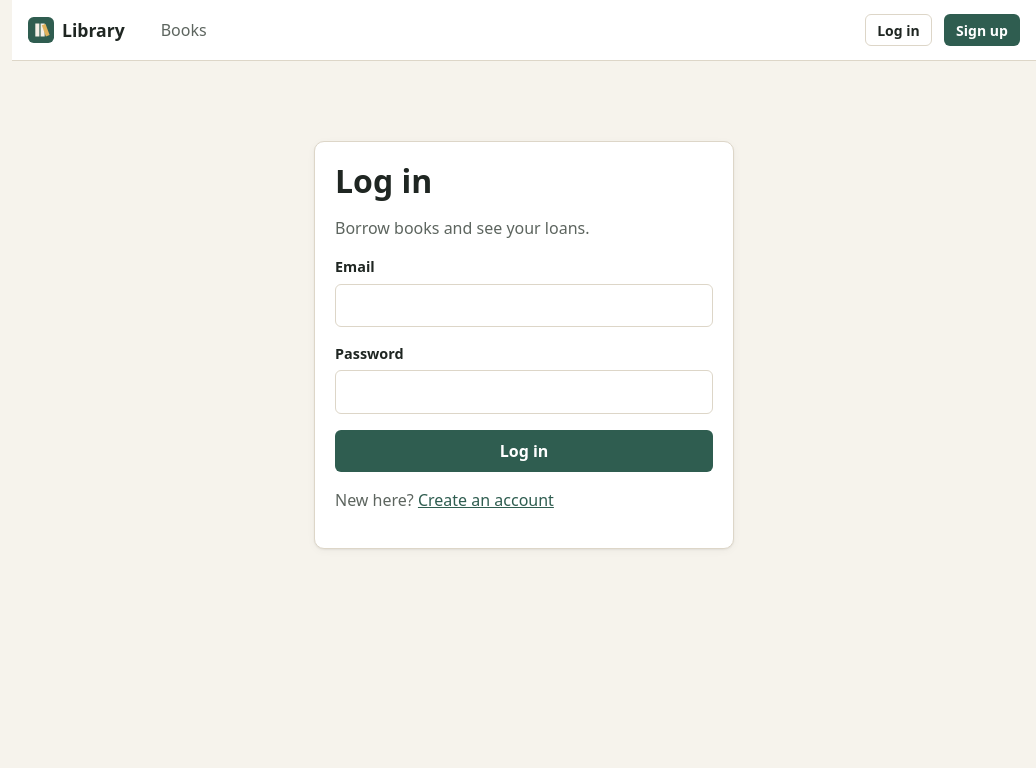
it: logging in › sends people back to the page they were trying to open
Expected: the heading "Log in" is shown, top-left (335, 159), bottom-right (432, 202)
Type "ada@example.com" into the field labelled "Email".
click(524, 305); type("ada@example.com")  # box top-left (335, 284), bottom-right (713, 327)
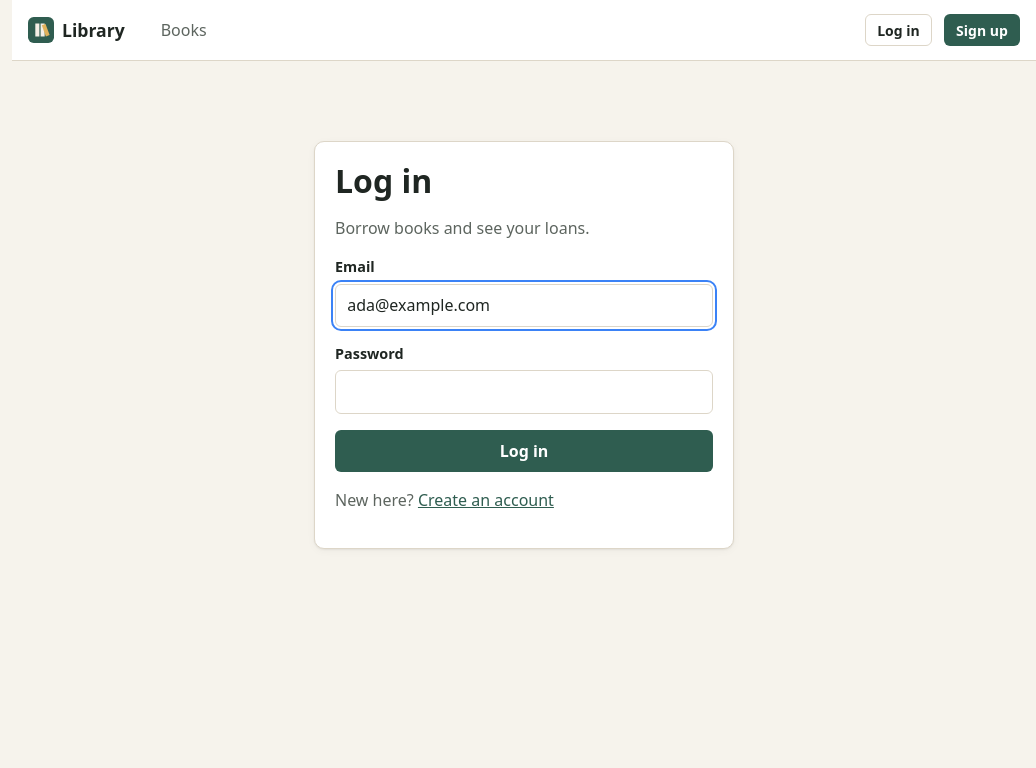
Type "correct horse battery staple" into the password field labelled "Password".
click(524, 392); type("correct horse battery staple")  # box top-left (335, 370), bottom-right (713, 414)
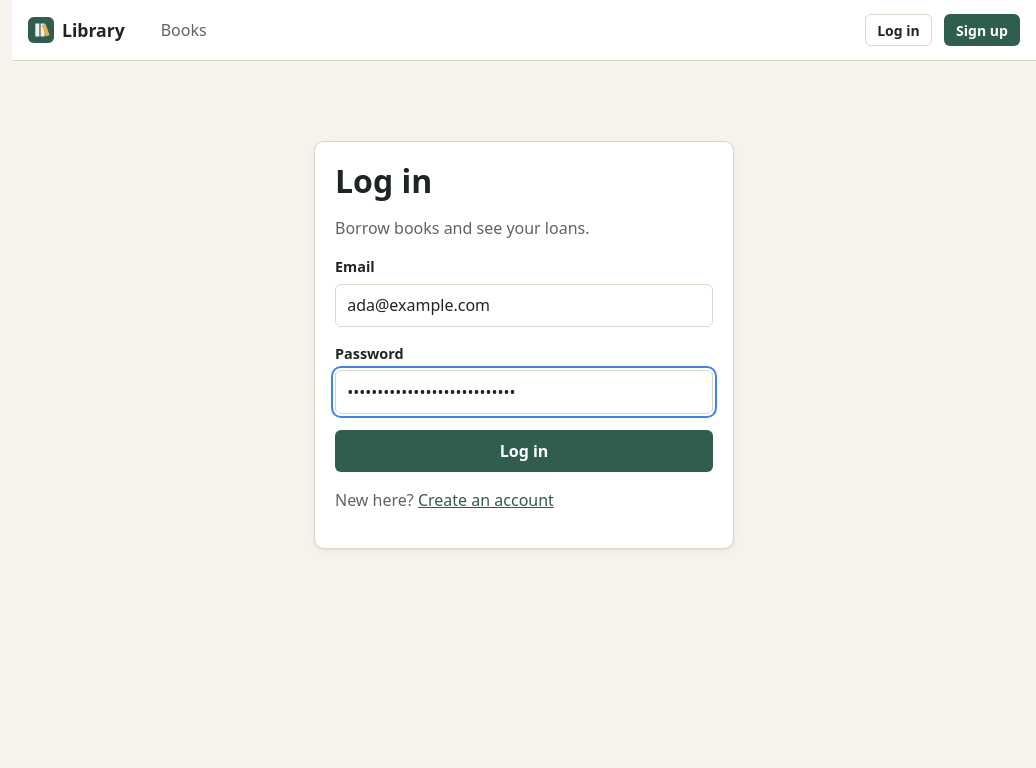
Click the button "Log in".
click(524, 451)  # box top-left (335, 430), bottom-right (713, 472)
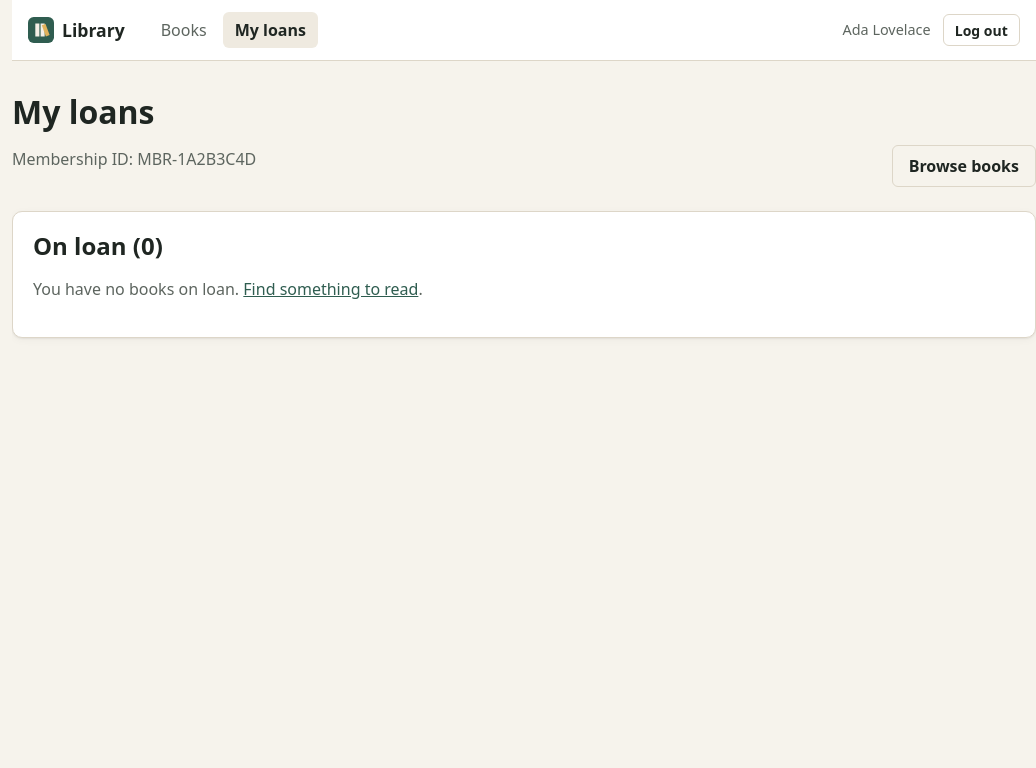
Now the heading "My loans" is shown, box top-left (12, 90), bottom-right (154, 133)
Now the text "Ada Lovelace" is shown, box top-left (842, 19), bottom-right (931, 41)
